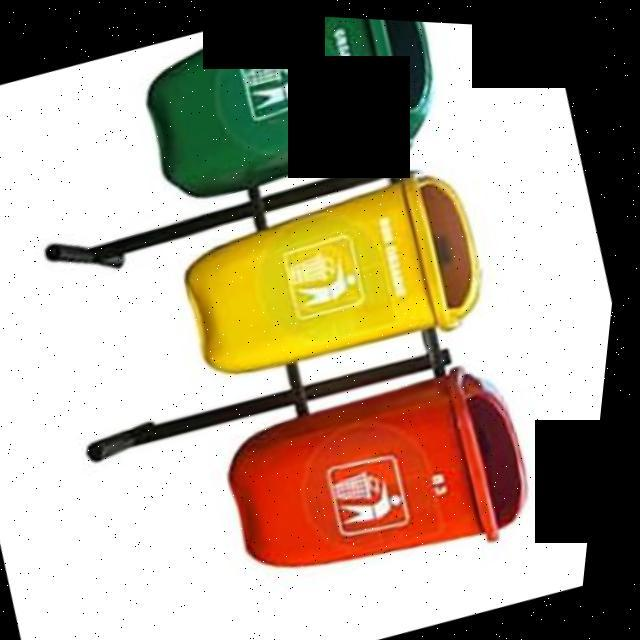bin: (199, 325, 580, 623), (146, 125, 526, 415), (102, 5, 472, 235)
